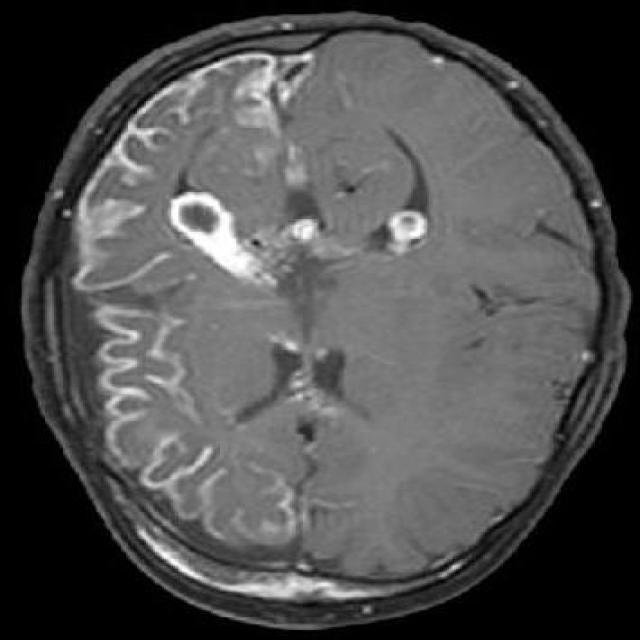brain tumor: (169, 189, 276, 286)
